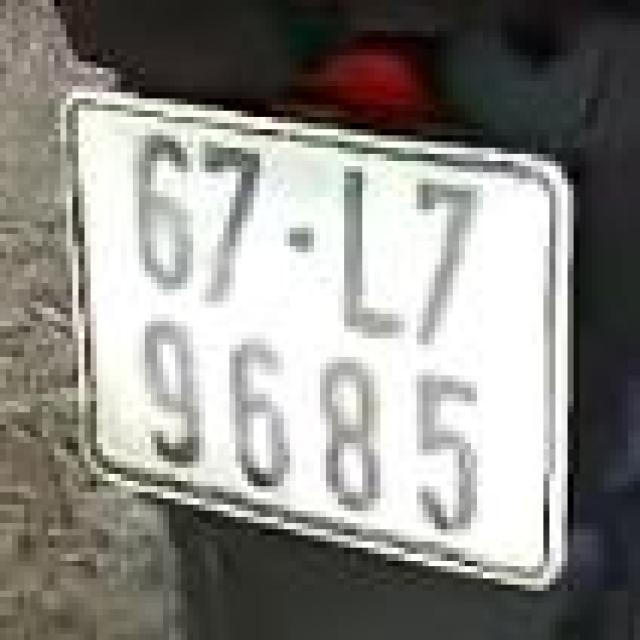5: (399, 363, 489, 542)
6: (214, 329, 299, 502), (124, 120, 196, 298)
7: (405, 166, 483, 351), (193, 135, 272, 314)
8: (308, 348, 386, 520)
9: (130, 305, 202, 483)
L: (326, 150, 399, 348)
